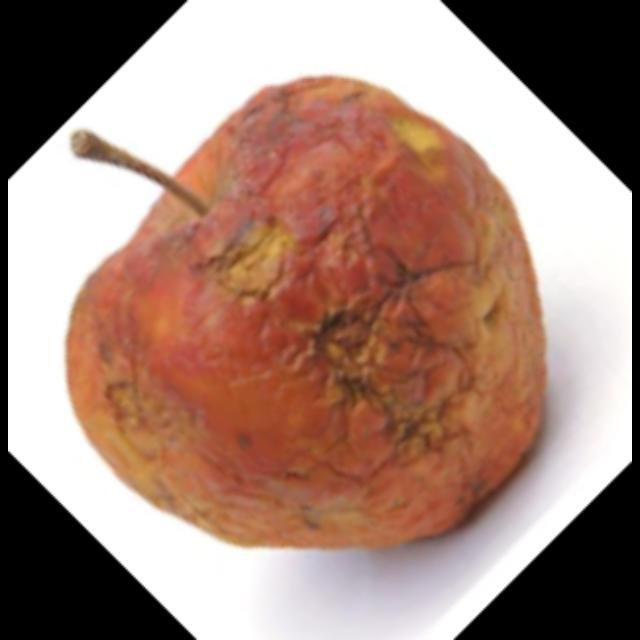Apel Tidak Segar: (66, 73, 550, 553)
